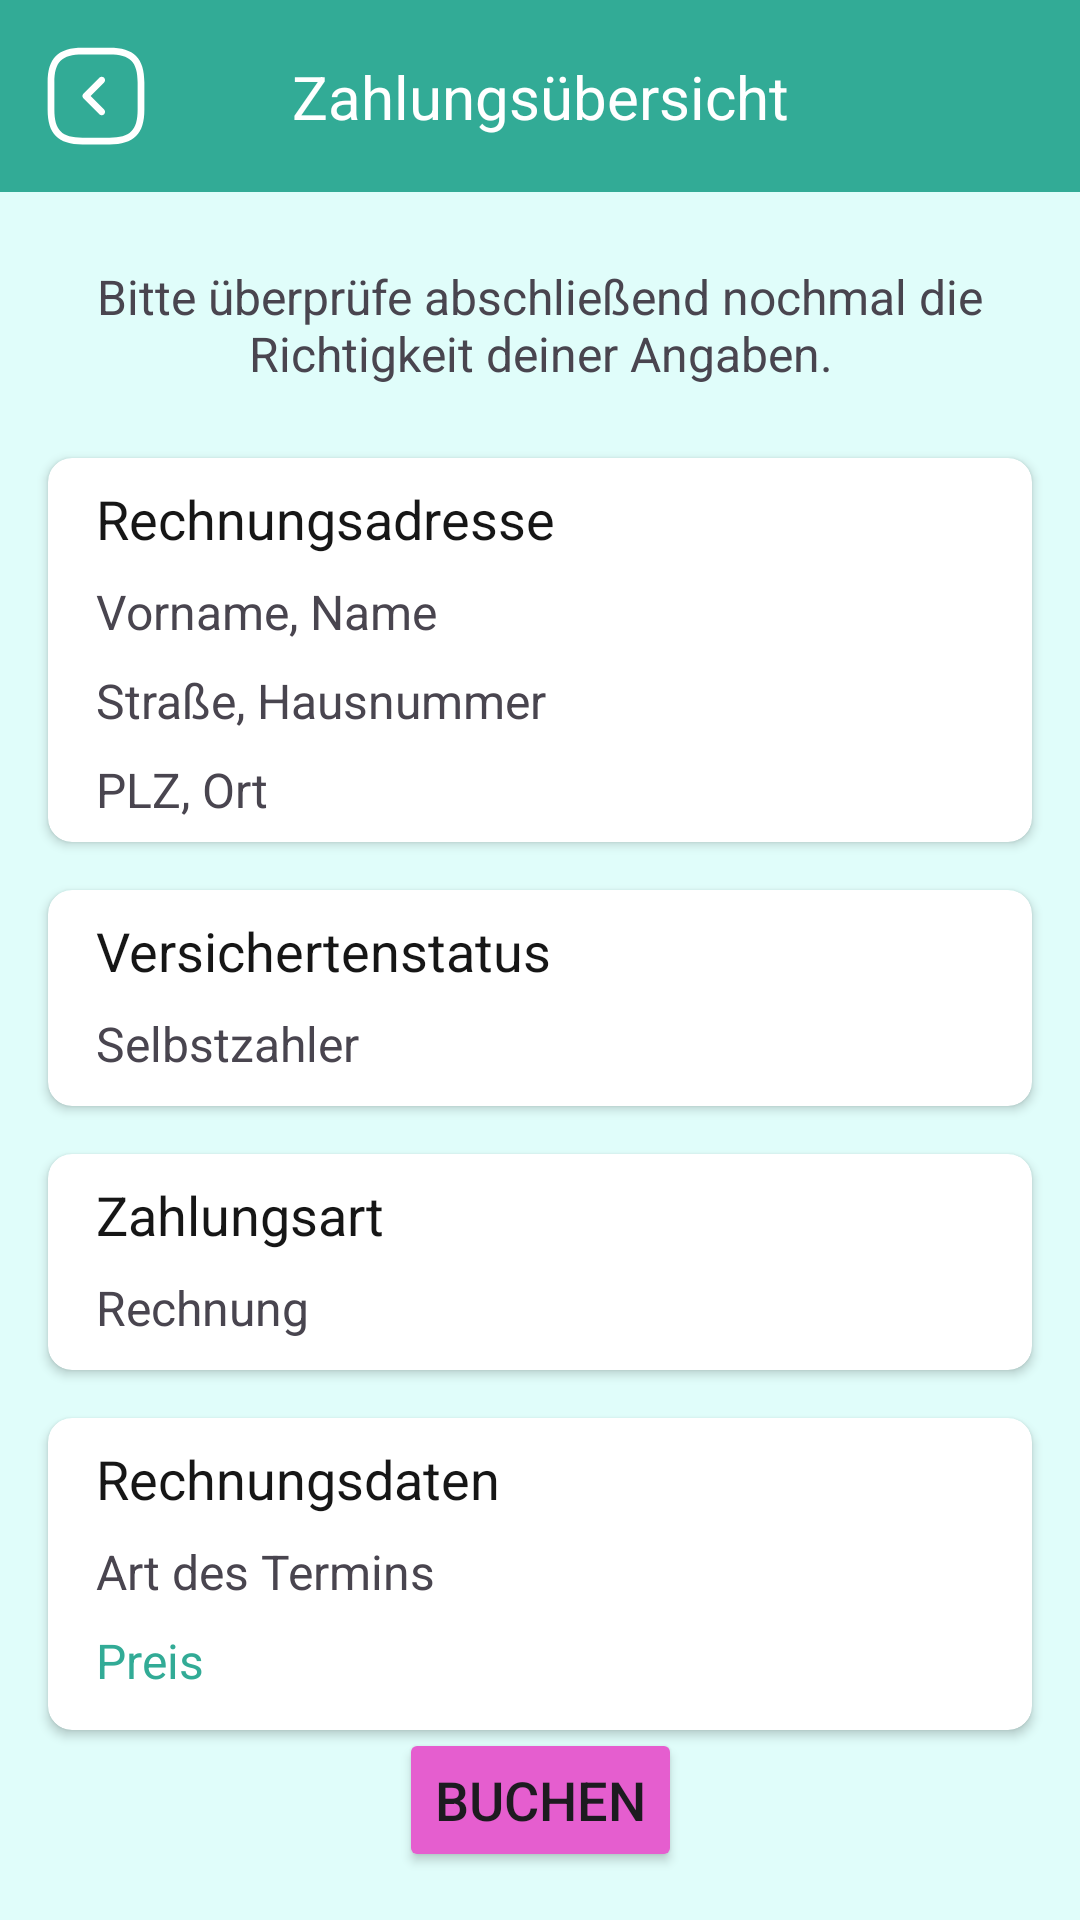

Screen size 1080x1920. Icon name, then its box in pixels as (x1, y1, x2, y2):
arrow square left: (47, 47, 145, 145)
